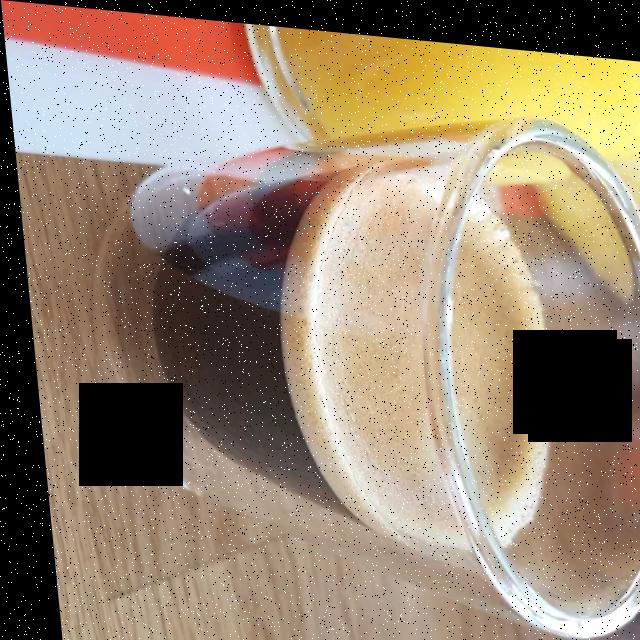espresso-with-caffeine: (158, 132, 528, 548)
